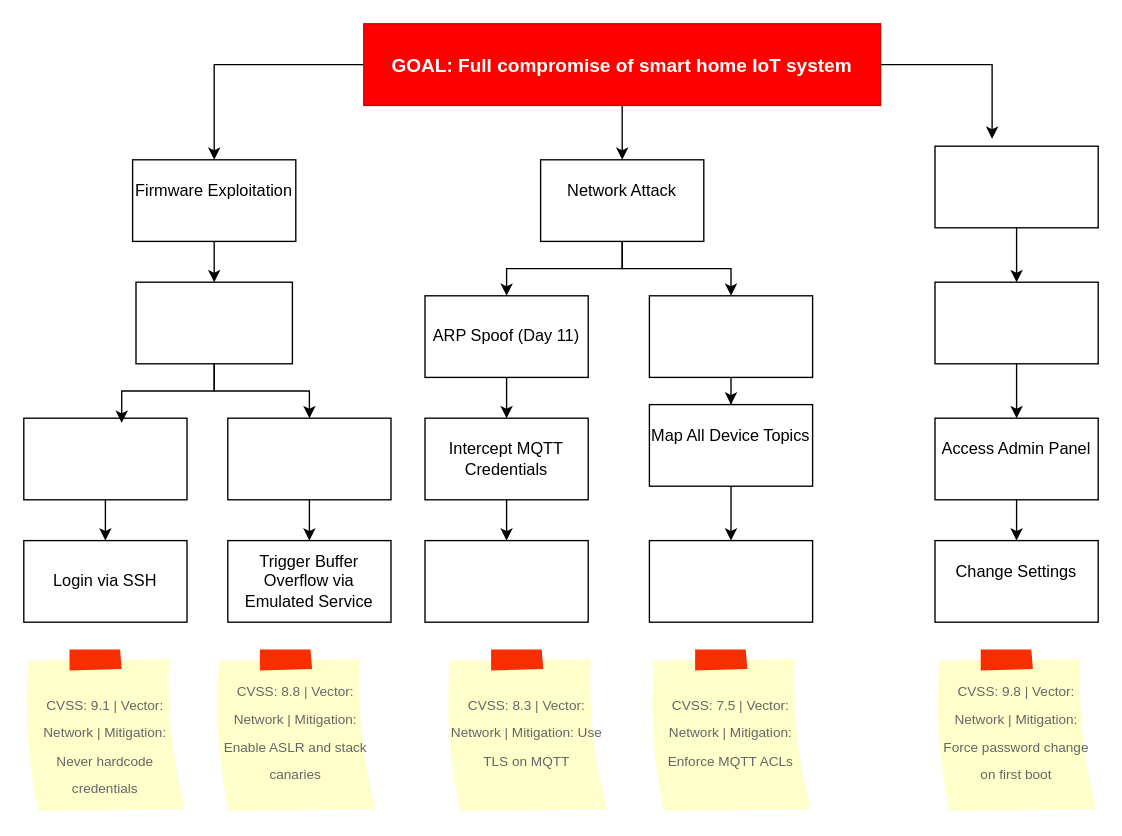
This 1122x836 diagram has some shape labels left out. The shapes that lost their labels are listed below. From the top down, each one's centre as x and y in pixels, then its label:
pixel 1016 186: Physical / Default Credentials
pixel 213 322: Extract Firmware
pixel 730 335: MQTT Wildcard Subscribe (Day 10)
pixel 1016 322: Default Web Interface Login
pixel 104 458: Find Hardcoded Credentials (Day 5)
pixel 308 458: Find Vulnerable Binary in Ghidra (Day 6)
pixel 506 580: Publish Malicious Commands
pixel 730 580: Inject False Data
